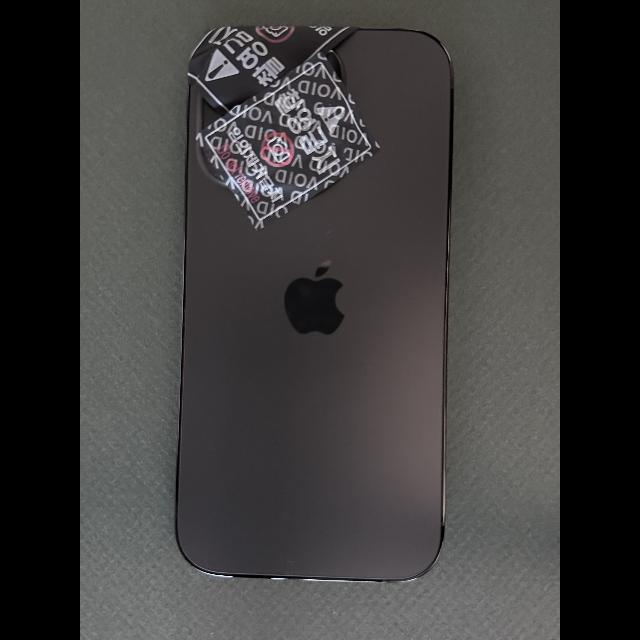phone: (176, 25, 453, 582)
sticker: (196, 51, 382, 231), (188, 26, 360, 115)
